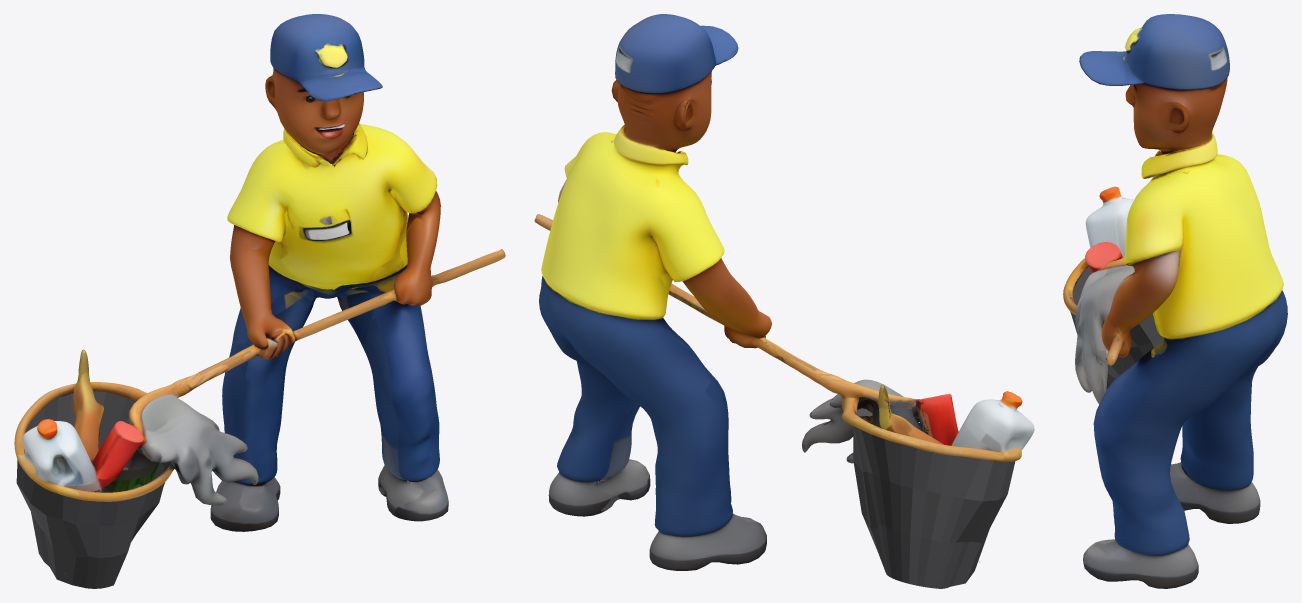
Rendered from HombreBasura.glb.
The picture shows the model from 3 angles, left to right: view 1: azimuth 30°, elevation 25°; view 2: azimuth 150°, elevation 25°; view 3: azimuth 270°, elevation 25°; orthographic projection. The views are drawn at different scales.
Parts seen in each view (by area): view 1: model, ADDON_malla_bolsa_red; view 2: model, ADDON_malla_bolsa_red; view 3: model, ADDON_malla_bolsa_red.
Part boxes in pixels (x1,y1,x2,y2): model: (14,14,505,574); ADDON_malla_bolsa_red: (16,391,171,588); model: (534,14,1034,570); ADDON_malla_bolsa_red: (853,408,1015,588); model: (1063,14,1287,588); ADDON_malla_bolsa_red: (1070,267,1164,389).
Bounding box in the file's own units: 1.9 × 1.87 × 0.7436.
Materials: 2 (1 with a texture image).
